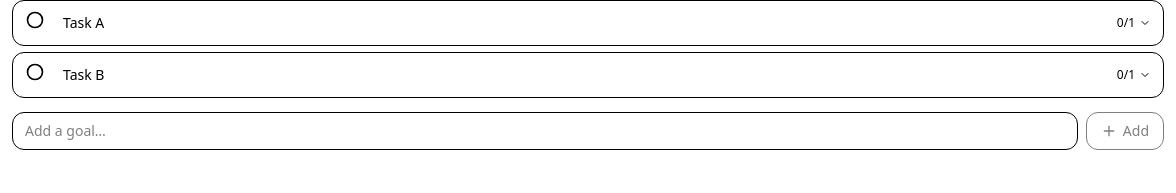
Test: GoalsList - Subtasks › keeps only one subtask accordion open at a time
Expand A
What coordinates should you click on to do the following:
click the button named "Show subtasks"
I would click on:
 (1134, 23)
Its box is [1117, 15, 1151, 31].
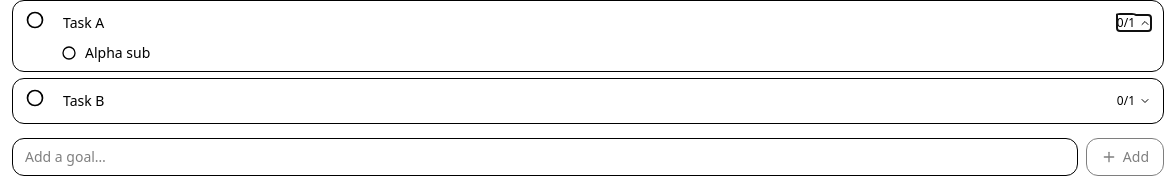
Result: the text "Alpha sub" is shown at [85, 43, 150, 63]
Expand B — A's chevron is now "Hide subtasks", so the only "Show subtasks" is B
What coordinates should you click on to do the following:
click the button named "Show subtasks"
I would click on:
 (1134, 101)
Its box is [1117, 93, 1151, 109].
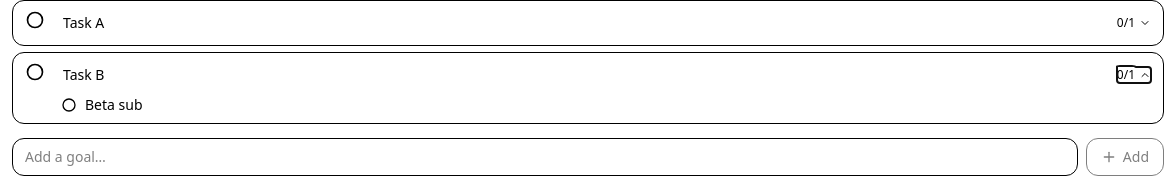
Result: the text "Beta sub" is shown at [85, 95, 142, 115]
Result: the button "Alpha sub" is gone
